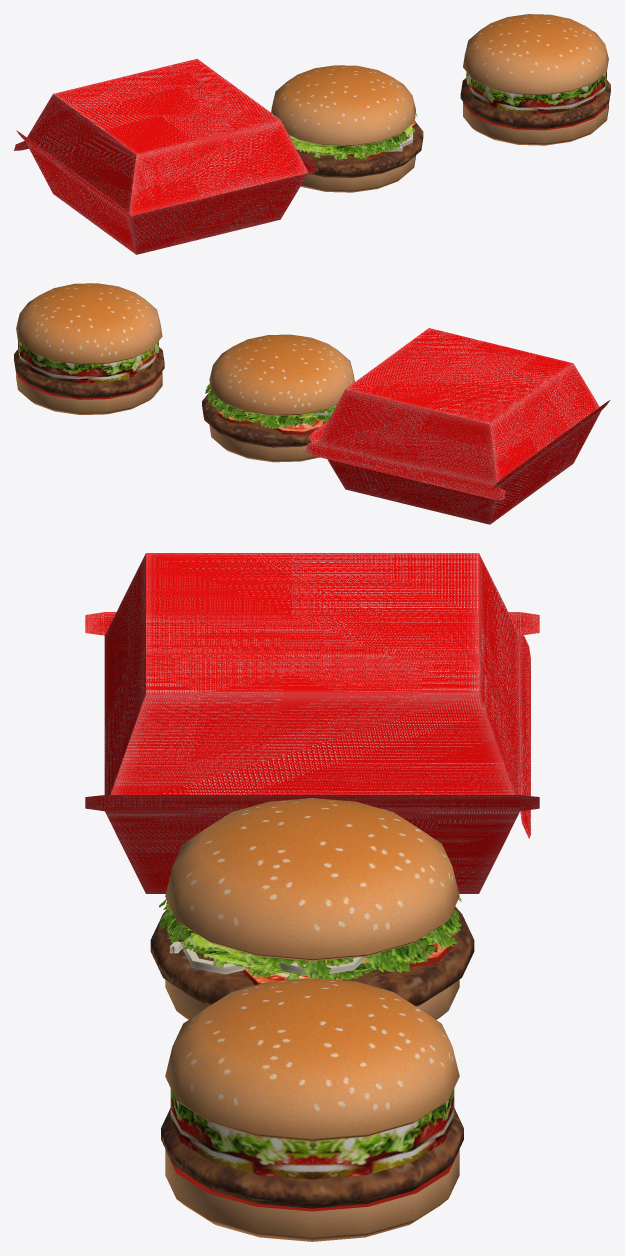
The model's file is hamburger.fbx.
The picture shows the model from 3 angles, top to bottom: view 1: azimuth 30°, elevation 25°; view 2: azimuth 150°, elevation 25°; view 3: azimuth 270°, elevation 25°; orthographic projection. The views are drawn at different scales.
Visible parts, largest first — view 1: burger_box_top, burger_simple, burger_box_bottom, burger_top, hamburger, burger_bottom, lettuce1, lettuce; view 2: burger_box_top, burger_simple, burger_top, burger_box_bottom, hamburger, burger_bottom, lettuce1, lettuce, tomato2; view 3: burger_box_top, burger_simple, burger_top, burger_box_bottom, hamburger, lettuce1, lettuce, burger_bottom.
Boxes of the visible parts, x1=… form: burger_box_top: x1=14, y1=58, x2=308, y2=215; burger_simple: x1=460, y1=14, x2=610, y2=145; burger_box_bottom: x1=16, y1=130, x2=316, y2=254; burger_top: x1=271, y1=65, x2=415, y2=146; hamburger: x1=296, y1=122, x2=423, y2=177; burger_bottom: x1=300, y1=155, x2=416, y2=192; lettuce1: x1=289, y1=113, x2=417, y2=158; lettuce: x1=309, y1=121, x2=415, y2=159; burger_box_top: x1=306, y1=328, x2=599, y2=499; burger_simple: x1=14, y1=283, x2=164, y2=414; burger_top: x1=209, y1=334, x2=354, y2=415; burger_box_bottom: x1=309, y1=400, x2=610, y2=524; hamburger: x1=202, y1=393, x2=329, y2=447; burger_bottom: x1=209, y1=425, x2=319, y2=462; lettuce1: x1=205, y1=383, x2=336, y2=427; lettuce: x1=207, y1=397, x2=330, y2=428; tomato2: x1=271, y1=419, x2=323, y2=435; burger_box_top: x1=104, y1=553, x2=530, y2=838; burger_simple: x1=161, y1=978, x2=463, y2=1241; burger_top: x1=165, y1=798, x2=459, y2=960; burger_box_bottom: x1=85, y1=612, x2=539, y2=893; hamburger: x1=150, y1=907, x2=474, y2=1006; lettuce1: x1=159, y1=897, x2=461, y2=978; lettuce: x1=163, y1=905, x2=461, y2=980; burger_bottom: x1=165, y1=980, x2=459, y2=1019.
Size of the model in its own units: 0.6287 by 0.1127 by 0.2321.
